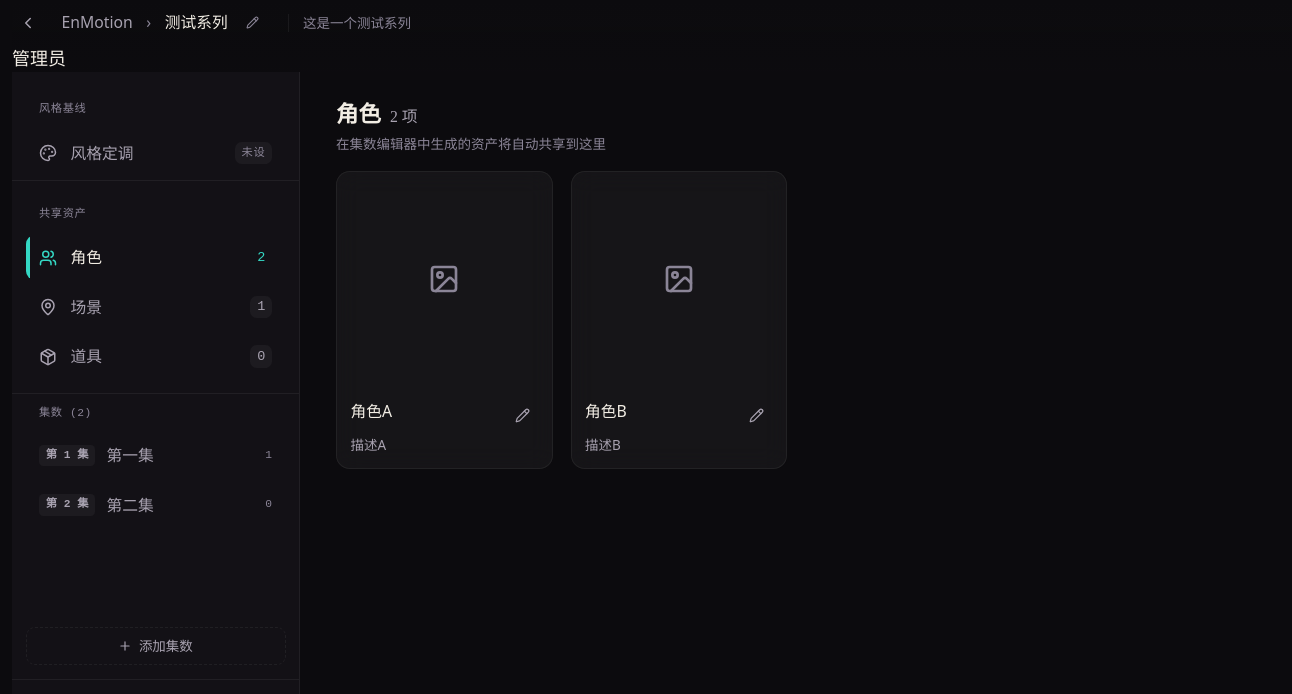
Test case: SeriesDetailPage › Assets display › shows empty state when props tab has no assets
Click the text "道具". click: (86, 356)
box: [70,345,102,367]
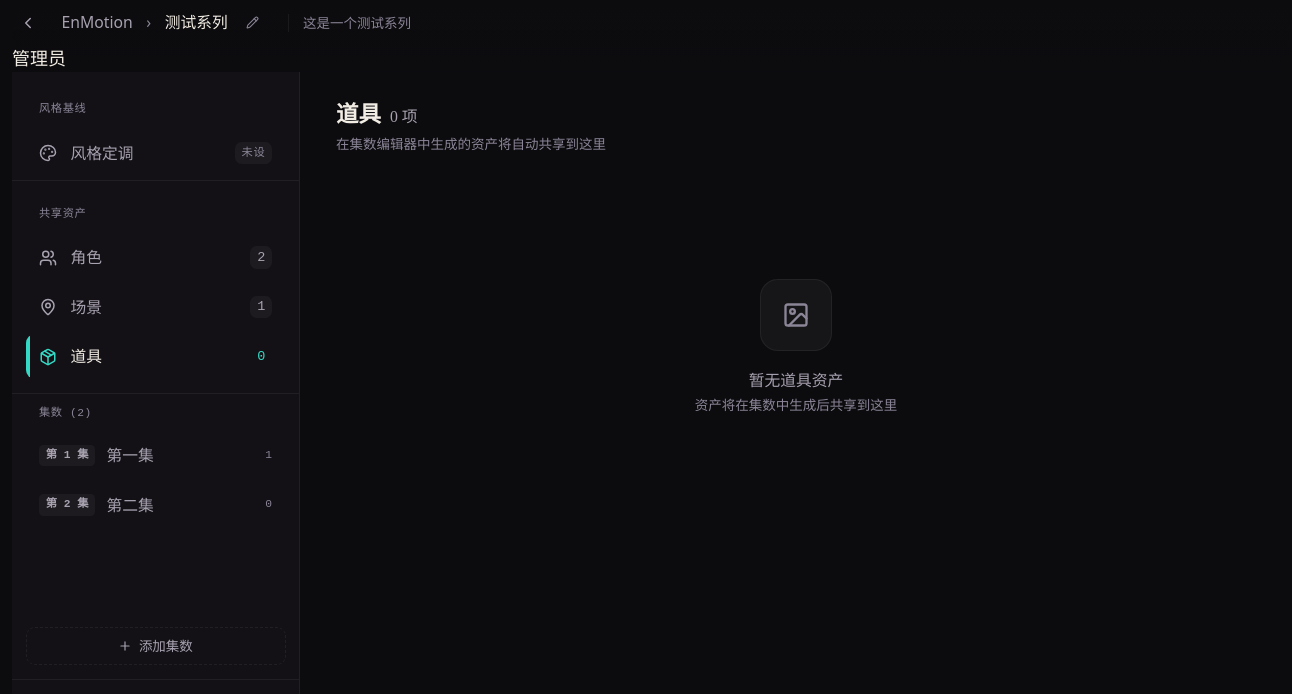
Result: the text "暂无道具资产" is shown at [749,369,843,392]
